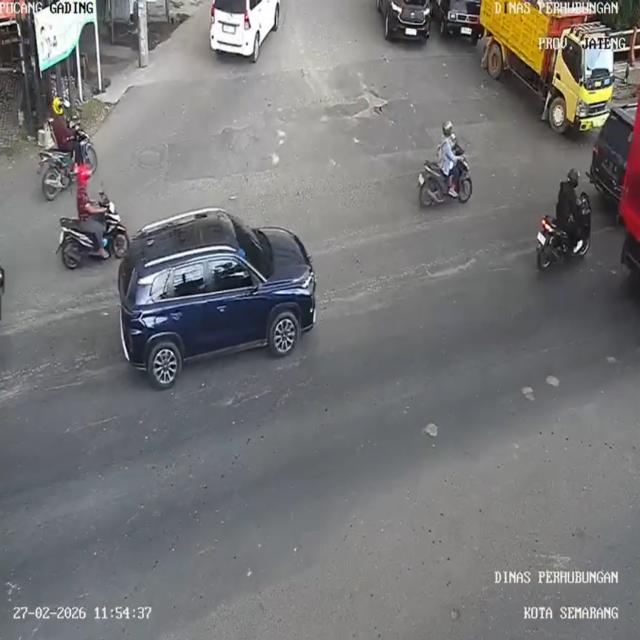motorcycle: (534, 209, 595, 268), (59, 210, 130, 258), (38, 145, 98, 195), (418, 158, 474, 210)
person: (68, 162, 102, 228), (49, 90, 80, 151), (554, 166, 582, 233), (434, 114, 460, 171)
rider_region: (57, 164, 132, 268), (36, 91, 98, 199), (535, 168, 593, 270), (416, 118, 473, 210)
